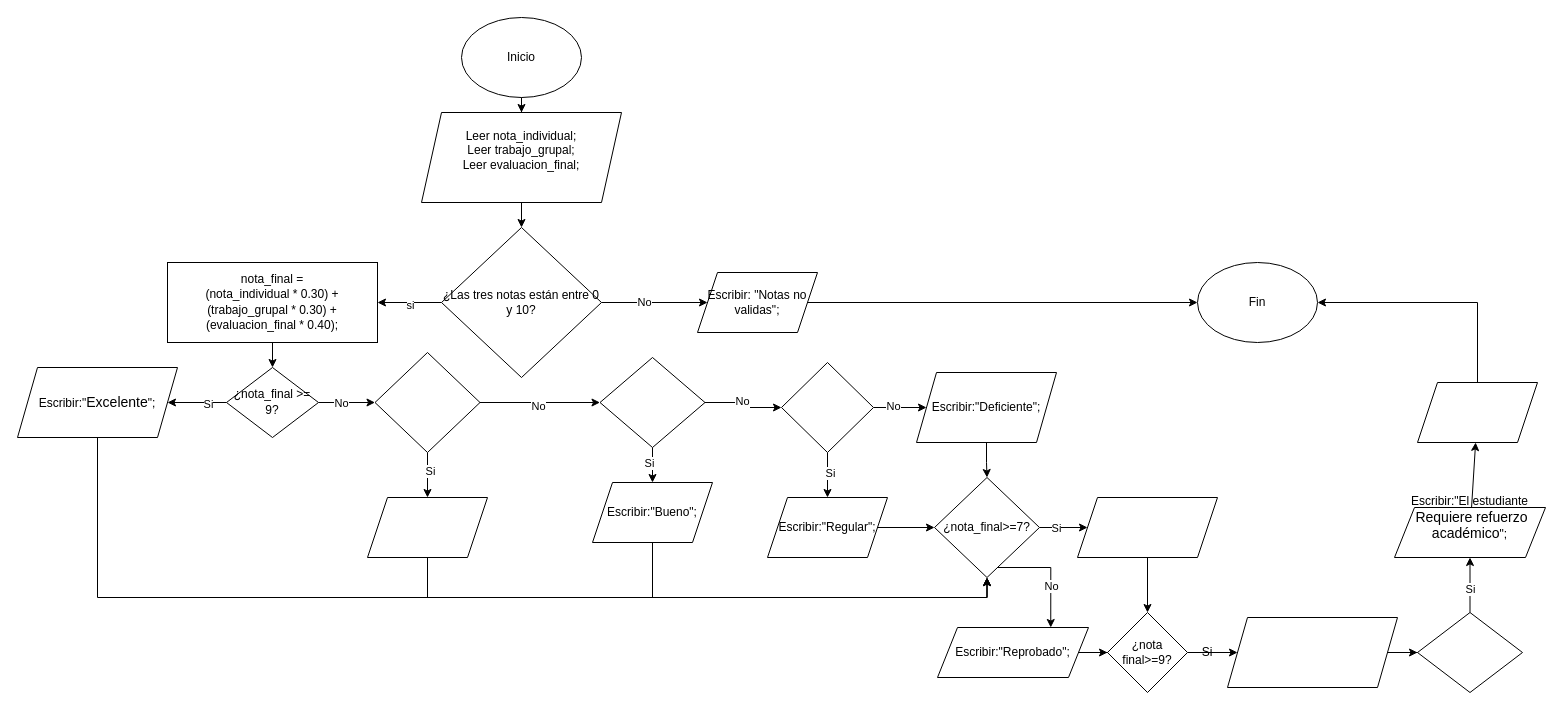
The diagram is 1563 pixels wide and 710 high, and some of its shapes have lost their labels. Each missing label, with the centre of its shape:
Escribir:" ¡Felicitaciones! Rendimiento sobresaliente ";: the point at 1312,652
Escribir:"Aprobado";: the point at 1147,527
Escribir:"La nota final es:" + nota_final;: the point at 1477,412
Escribir:"Muy bueno";: the point at 427,527
¿ nota_final >= 5 ?: the point at 827,407
¿ nota_final >= 7 ?: the point at 652,402
¿ nota_final >= 8 ?: the point at 427,402
¿nota_fina;<7?: the point at 1469,652
